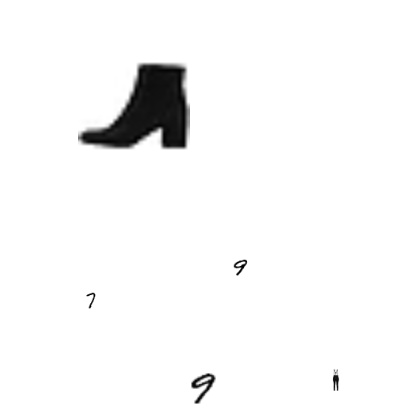7: (80, 288, 102, 310)
9: (181, 363, 223, 405), (229, 255, 251, 277)
Ankle_boot: (78, 48, 190, 160)
Trouser: (325, 369, 347, 391)
